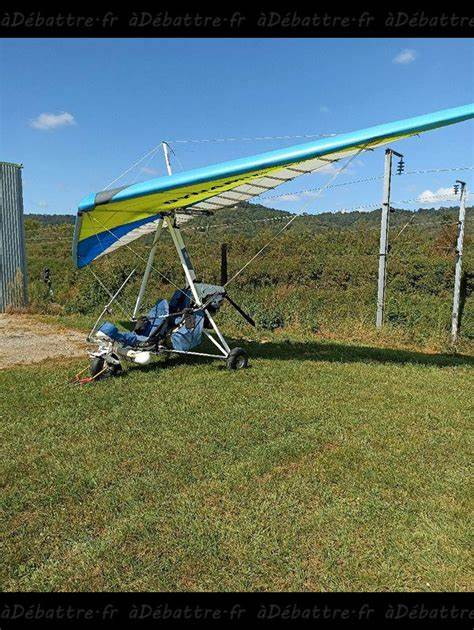Aeronef_de_loisir: (55, 98, 474, 416)
